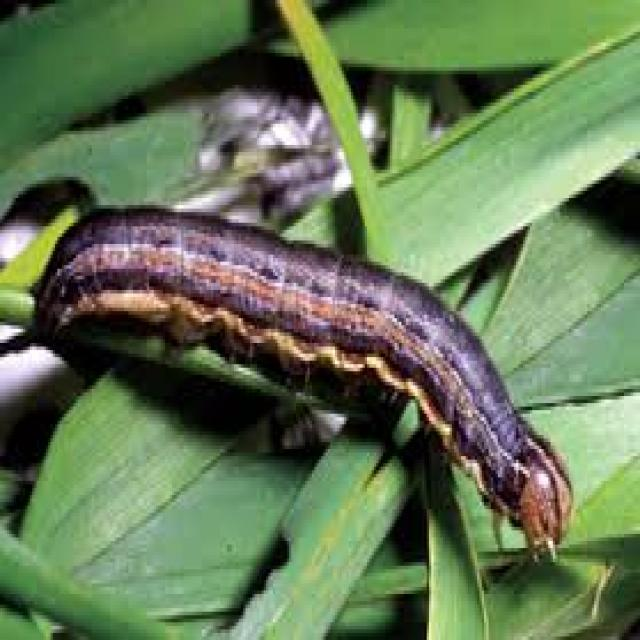Army Worm: (24, 196, 578, 569)
